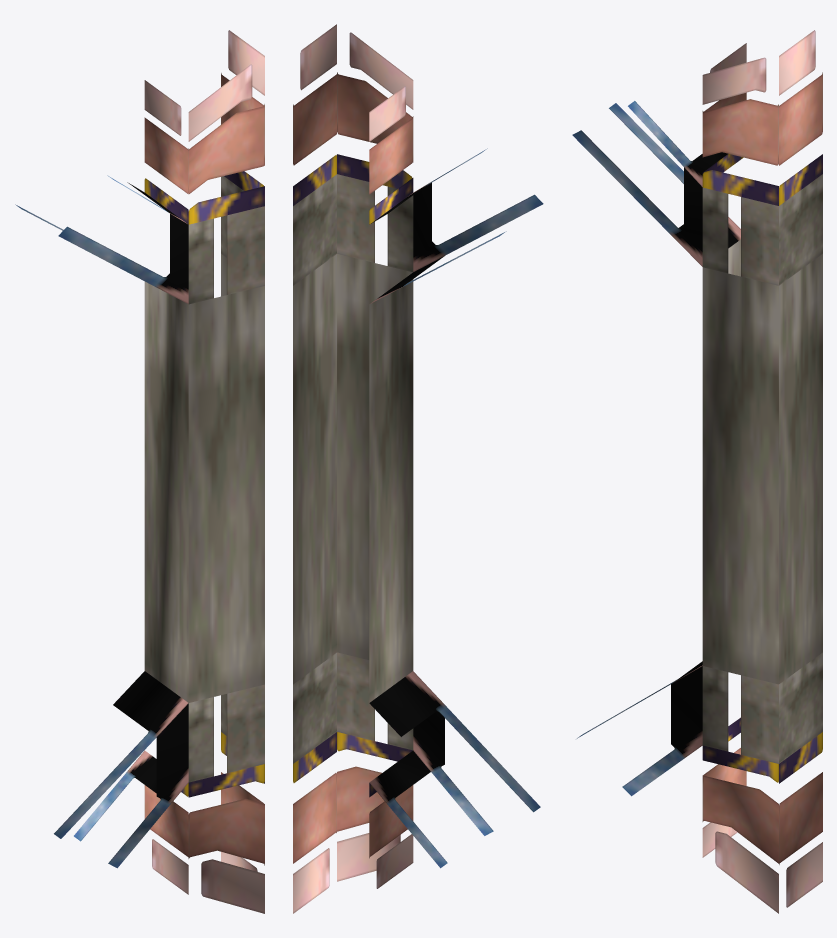
The picture shows the model from 3 angles, left to right: view 1: azimuth 30°, elevation 25°; view 2: azimuth 150°, elevation 25°; view 3: azimuth 330°, elevation 25°; orthographic projection.
Visible parts, largest first — view 1: T1L7M004_9; view 2: T1L7M004_9; view 3: T1L7M004_9.
Boxes of the visible parts, left/top/right/bottom form: T1L7M004_9: left=15, top=30, right=264, bottom=913; T1L7M004_9: left=293, top=24, right=543, bottom=913; T1L7M004_9: left=572, top=30, right=822, bottom=913.
Size of the model in its own units: 1.08 by 4.4 by 0.3994.
